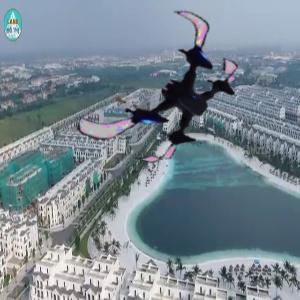drone: (92, 8, 256, 172)
